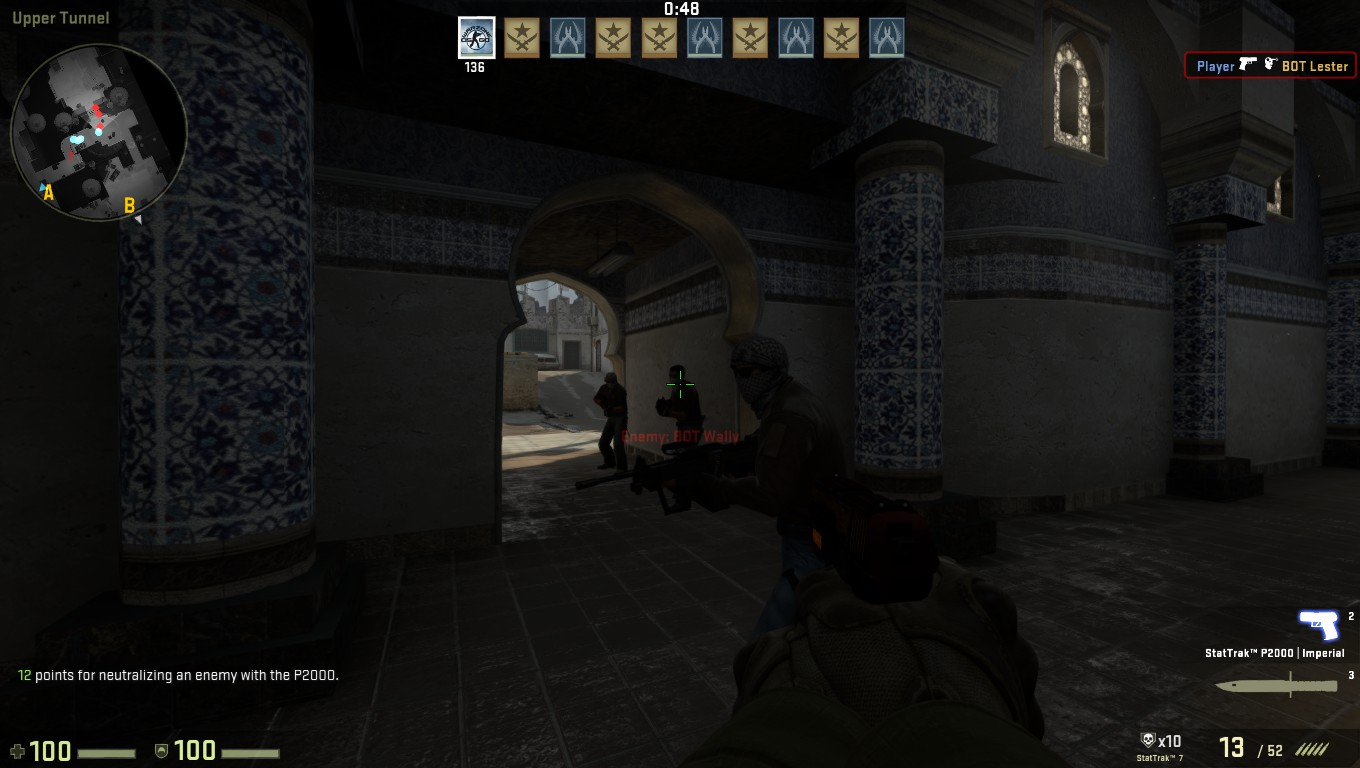t: (706, 331, 858, 671), (586, 368, 637, 477), (654, 363, 709, 460)
th: (724, 332, 796, 412), (662, 364, 693, 391), (603, 370, 625, 390)
